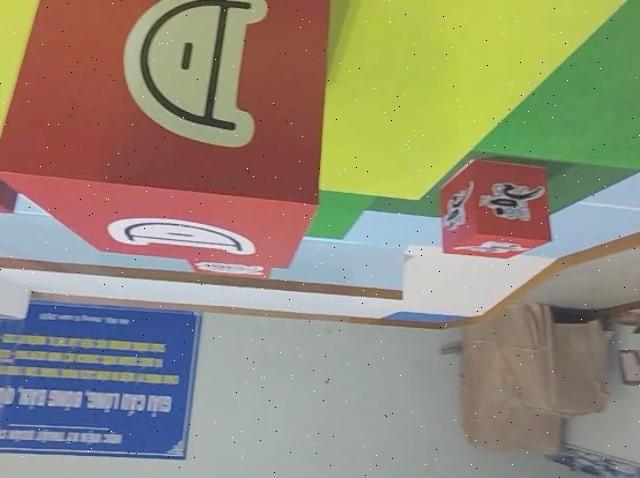R1: (438, 157, 553, 263)
R2 Real: (0, 0, 338, 275), (0, 96, 20, 217)
